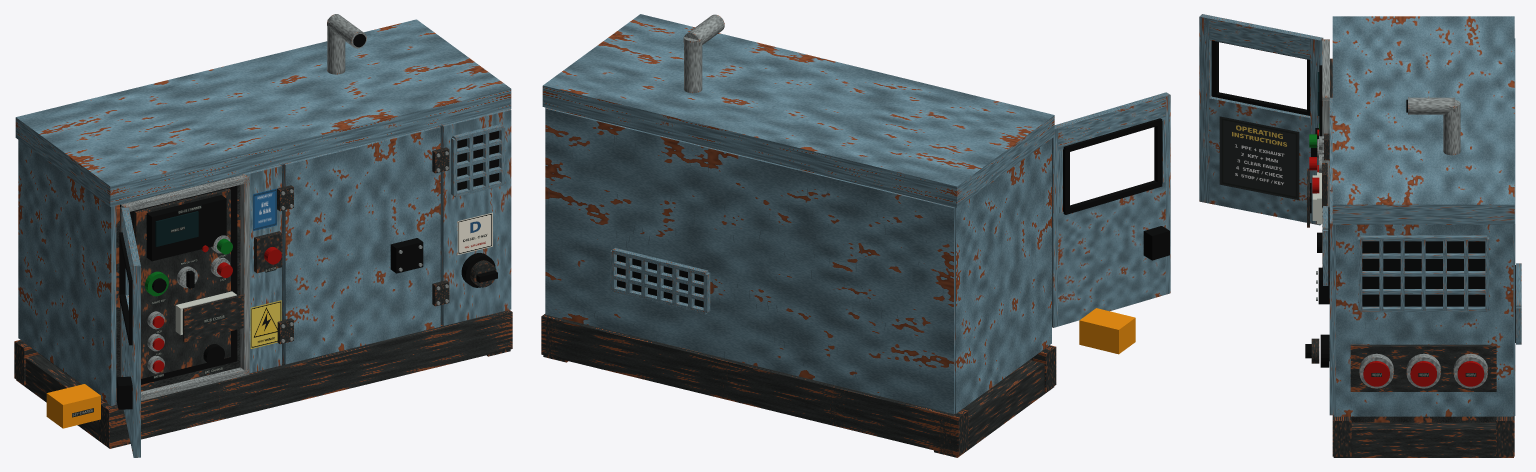
Rendered from Generator_Open.obj.
3 renders of one model, left to right at view 1: azimuth 30°, elevation 25°; view 2: azimuth 150°, elevation 25°; view 3: azimuth 270°, elevation 25°, orthographic. The views are drawn at different scales.
Parts seen in each view (by area): view 1: Roof, FrontPanel0.36, LeftSide, SkidRail0.52, FrontPanel1.17, ControlFascia, FrontPanel-0.35, DisplayBezel, InnerEngine, BreakerCover, ChargerBase, SkidFoot-1.34 (+19 smaller); view 2: RearPanel, Roof, LeftSide, SkidRail-0.52, DoorBottom, SkidFoot-1.34, DoorTop, ChargerBase, DoorLeft, DoorRight, RearVentInside, ExhaustUpright (+6 smaller); view 3: Roof, RightSide, DoorInstructions, DoorBottom, SideVentInside, SkidFoot1.34, SocketPlate, DoorTop, DoorRight, FrontPanel1.17, DoorLeft, InnerEngine (+27 smaller).
Boxes of the visible parts, <box> form: Roof: <box>15,19,511,206</box>; FrontPanel0.36: <box>282,126,440,364</box>; LeftSide: <box>18,140,116,405</box>; SkidRail0.52: <box>99,310,512,447</box>; FrontPanel1.17: <box>440,109,511,325</box>; ControlFascia: <box>134,188,230,378</box>; FrontPanel-0.35: <box>242,165,281,373</box>; DisplayBezel: <box>146,195,226,261</box>; InnerEngine: <box>39,165,282,401</box>; BreakerCover: <box>183,294,243,342</box>; ChargerBase: <box>46,384,100,428</box>; SkidFoot-1.34: <box>16,354,130,448</box>; RearPanel: <box>545,108,954,414</box>; Roof: <box>542,14,1054,207</box>; LeftSide: <box>955,139,1051,413</box>; SkidRail-0.52: <box>541,314,968,456</box>; DoorBottom: <box>1058,182,1165,326</box>; SkidFoot-1.34: <box>934,360,1054,457</box>; DoorTop: <box>1054,95,1165,150</box>; ChargerBase: <box>1079,308,1135,354</box>; DoorLeft: <box>1052,124,1062,327</box>; DoorRight: <box>1157,92,1170,294</box>; RearVentInside: <box>617,255,703,307</box>; ExhaustUpright: <box>684,37,702,93</box>; Roof: <box>1332,16,1514,224</box>; RightSide: <box>1334,224,1513,416</box>; DoorInstructions: <box>1219,116,1299,200</box>; DoorBottom: <box>1209,96,1310,222</box>; SideVentInside: <box>1362,241,1485,306</box>; SkidFoot1.34: <box>1333,422,1513,457</box>; SocketPlate: <box>1350,344,1496,391</box>; DoorTop: <box>1204,15,1312,59</box>; DoorRight: <box>1199,14,1211,203</box>; FrontPanel1.17: <box>1329,191,1335,415</box>; DoorLeft: <box>1310,36,1323,225</box>; InnerEngine: <box>1351,416,1495,422</box>.
Size of the model in its own units: 3.38 by 2.15 by 2.05.
29 materials, 23 textured.
